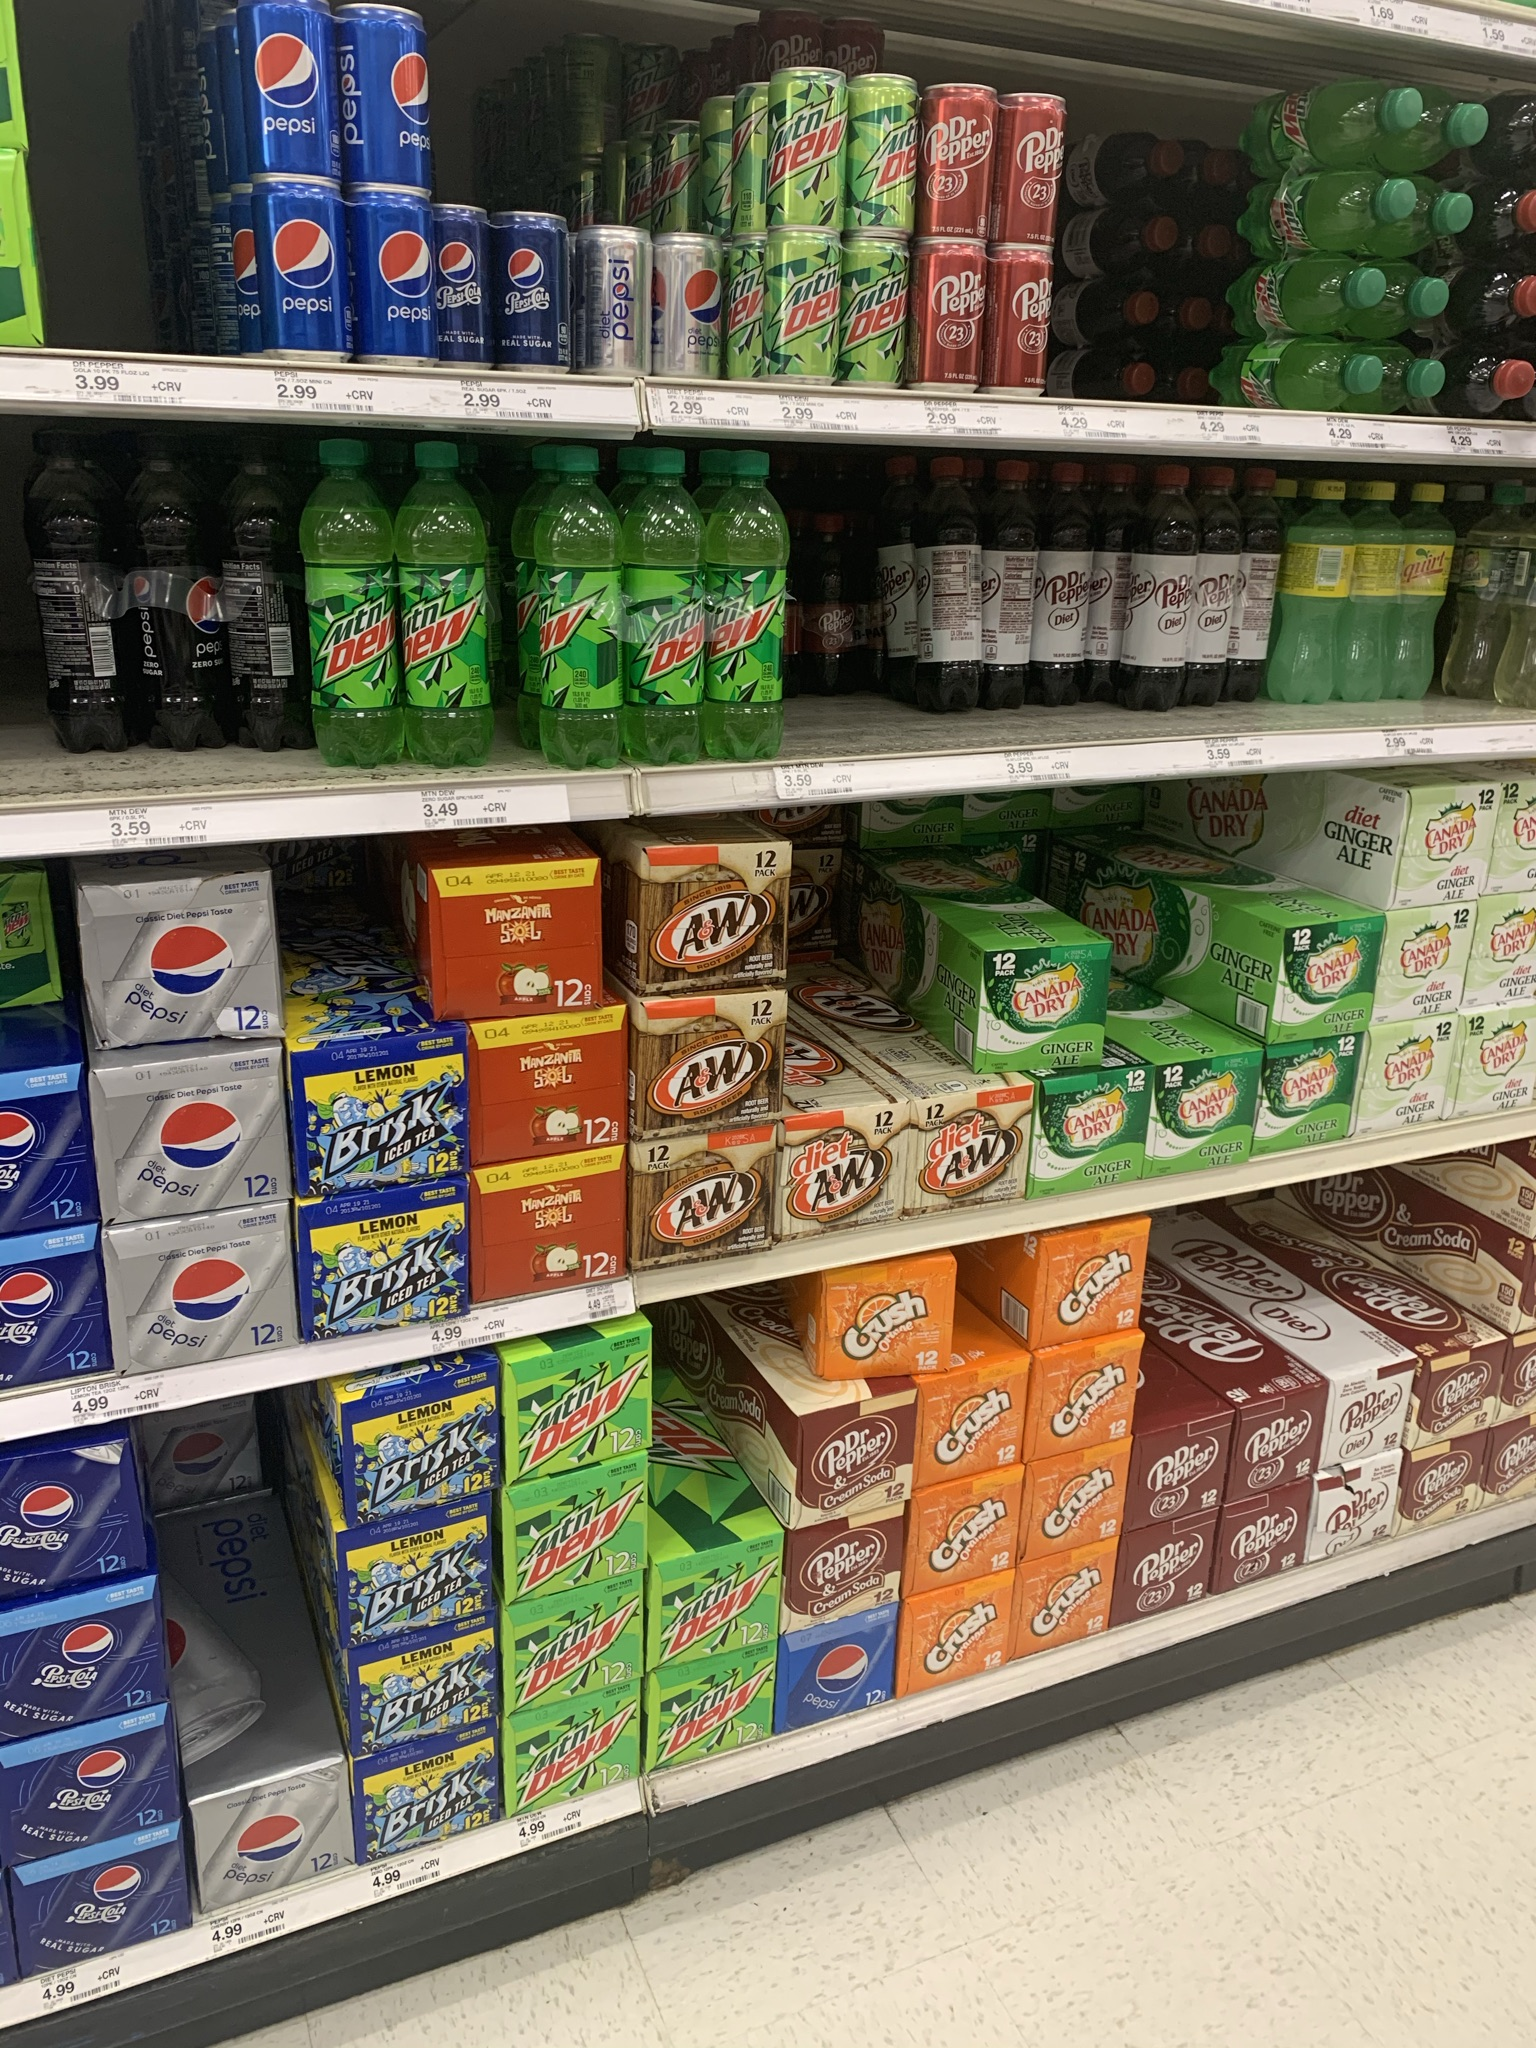box: (73, 872, 286, 1040), (87, 1063, 295, 1205), (426, 860, 603, 1018), (106, 1230, 303, 1355), (294, 1055, 471, 1185), (637, 840, 791, 989), (634, 989, 786, 1127), (298, 1200, 470, 1314), (978, 942, 1108, 1076), (497, 1351, 652, 1459), (470, 1168, 629, 1271), (629, 1140, 773, 1251), (2, 1605, 153, 1708), (783, 1109, 908, 1229), (202, 1779, 345, 1880), (15, 1738, 168, 1832), (818, 1269, 950, 1376), (344, 1406, 486, 1496), (918, 1095, 1028, 1206), (1036, 1080, 1142, 1188), (1260, 1034, 1359, 1148), (516, 1493, 645, 1579), (1394, 797, 1499, 900), (1154, 1064, 1252, 1163), (1288, 926, 1373, 1039), (23, 1875, 177, 1937), (797, 1426, 908, 1506), (363, 1667, 492, 1732), (349, 1564, 482, 1625), (518, 1619, 631, 1687), (665, 1572, 774, 1640), (920, 1496, 1013, 1572), (373, 1766, 490, 1825), (1037, 1361, 1128, 1438), (925, 1388, 1025, 1458), (803, 1542, 900, 1613), (1028, 1466, 1120, 1540), (1042, 1243, 1128, 1322), (1391, 927, 1459, 1018), (1383, 1035, 1447, 1126), (1242, 1413, 1318, 1480), (926, 1605, 997, 1675), (1146, 1442, 1217, 1513), (1133, 1542, 1208, 1606), (1025, 1585, 1105, 1642), (1231, 1517, 1305, 1572)
can: (258, 176, 352, 356), (344, 10, 436, 181), (252, 2, 334, 182), (353, 176, 428, 368), (771, 60, 850, 239), (495, 198, 571, 368), (573, 216, 650, 376), (997, 82, 1066, 250), (925, 76, 995, 239), (912, 235, 984, 393), (770, 227, 841, 387), (653, 224, 724, 381), (842, 232, 908, 395), (437, 194, 494, 364), (858, 68, 913, 235), (997, 248, 1049, 387)
